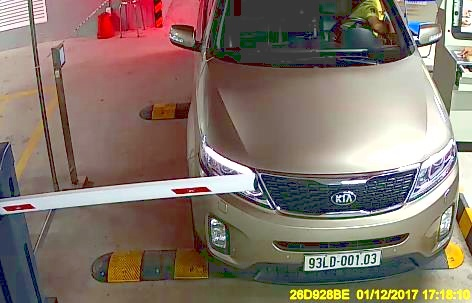plate: (301, 248, 381, 272)
